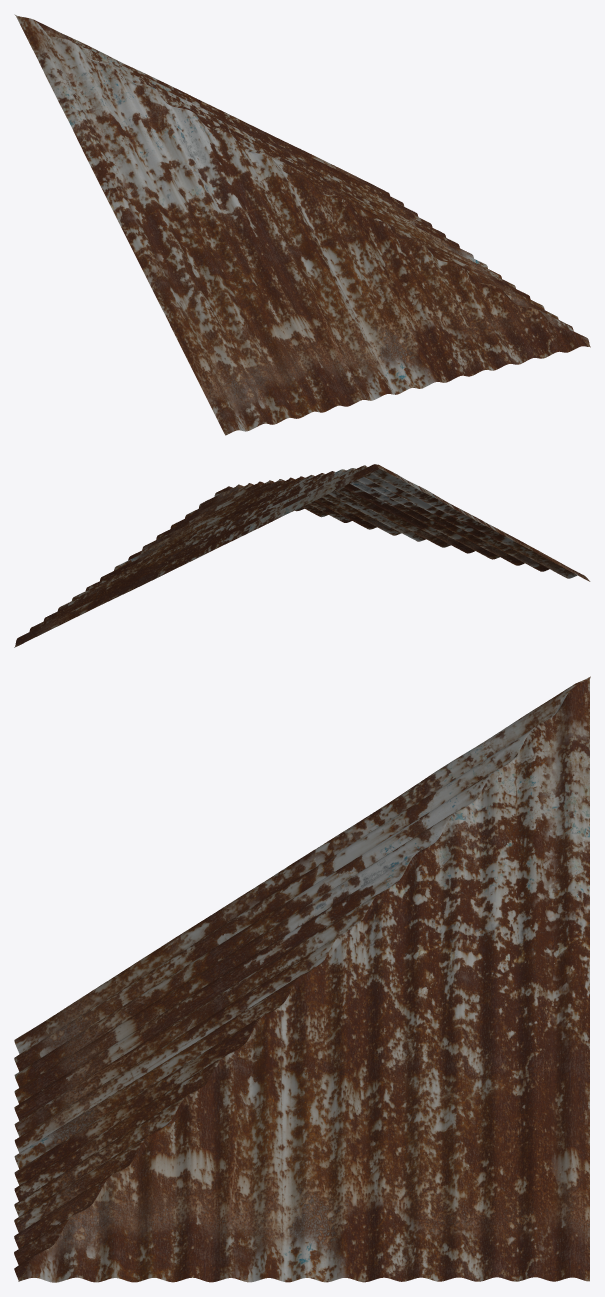
File: Roof_Corner_35_Corrugated.glb
3 renders of one model, top to bottom at view 1: azimuth 30°, elevation 25°; view 2: azimuth 150°, elevation 25°; view 3: azimuth 270°, elevation 25°, orthographic. The views are drawn at different scales.
Visible parts, largest first — view 1: Roof_Corner_35_Corrugated; view 2: Roof_Corner_35_Corrugated; view 3: Roof_Corner_35_Corrugated.
Boxes of the visible parts, left/top/right/bottom form: Roof_Corner_35_Corrugated: left=14, top=14, right=590, bottom=435; Roof_Corner_35_Corrugated: left=14, top=464, right=590, bottom=647; Roof_Corner_35_Corrugated: left=14, top=676, right=590, bottom=1282.
Size of the model in its own units: 2.42 by 1.69 by 2.42.
1 material, 1 textured.
